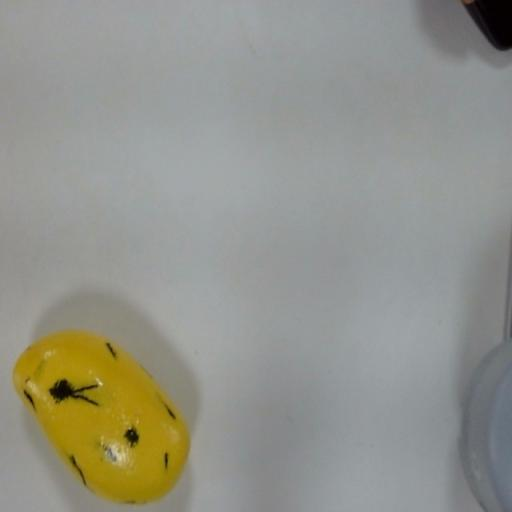Defective: (12, 313, 194, 507)
